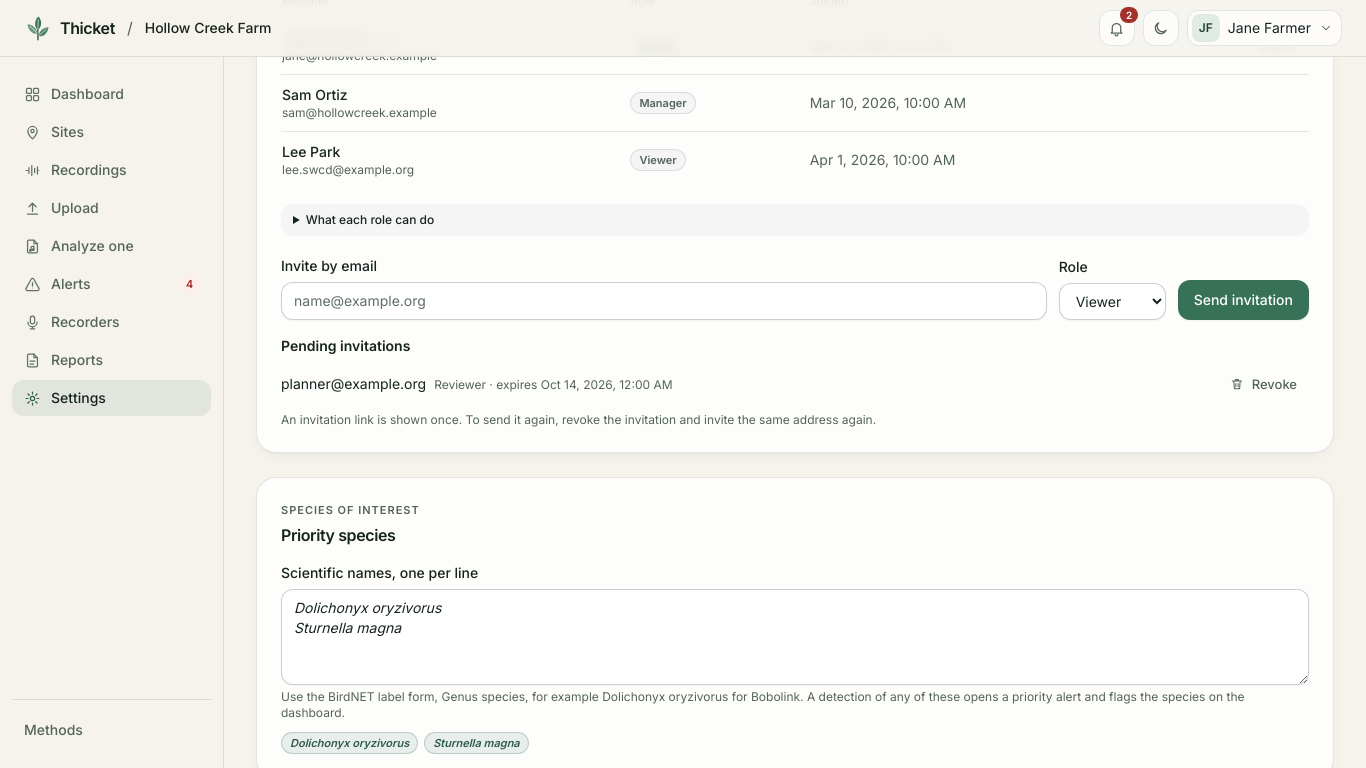
Test: role gating › revokes a pending invitation with a DELETE and drops it from the list
The image size is (1366, 768).
(page scrolled)
Expected: the text "planner@example.org" is shown, [281, 375, 426, 392]
Click the button with aria-label "Revoke the invitation for planner@example.org" at (1263, 384), box [1218, 368, 1309, 400]
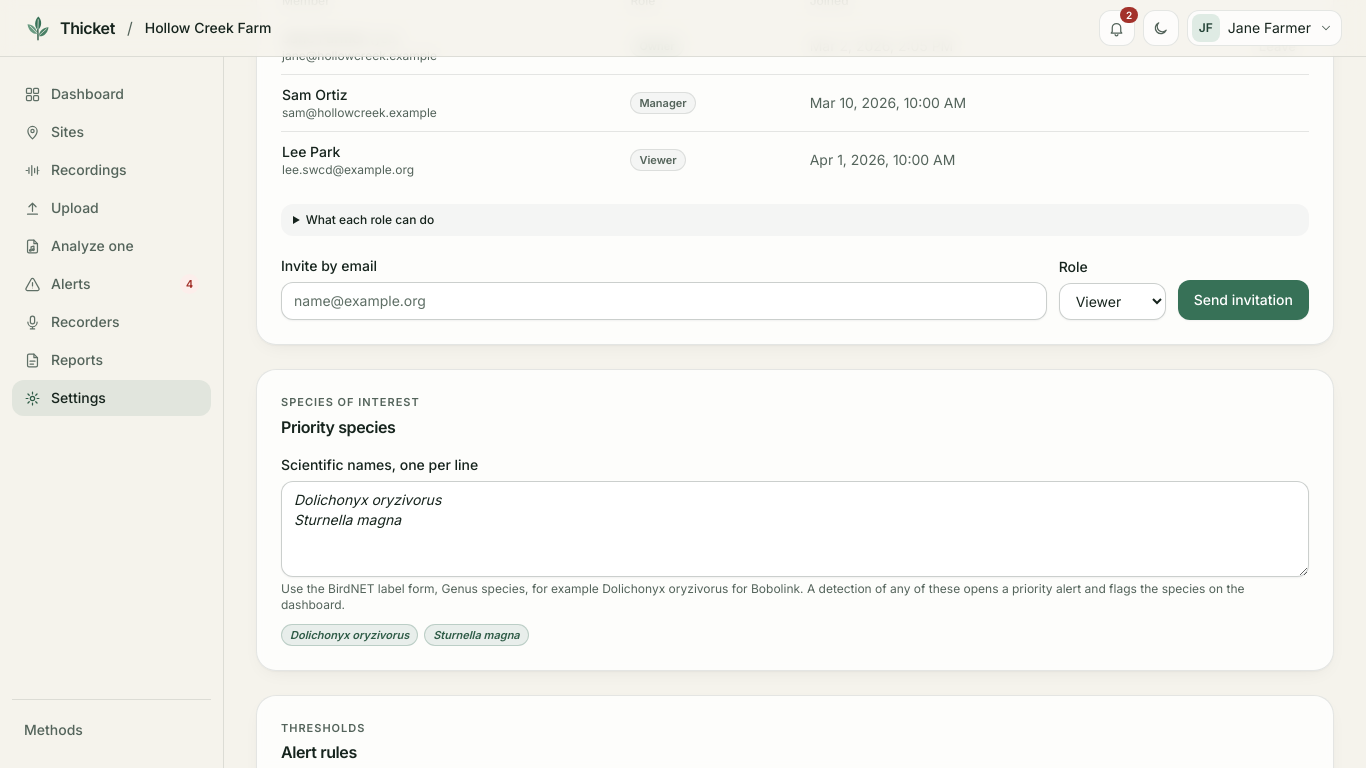
Now the text "planner@example.org" is gone
